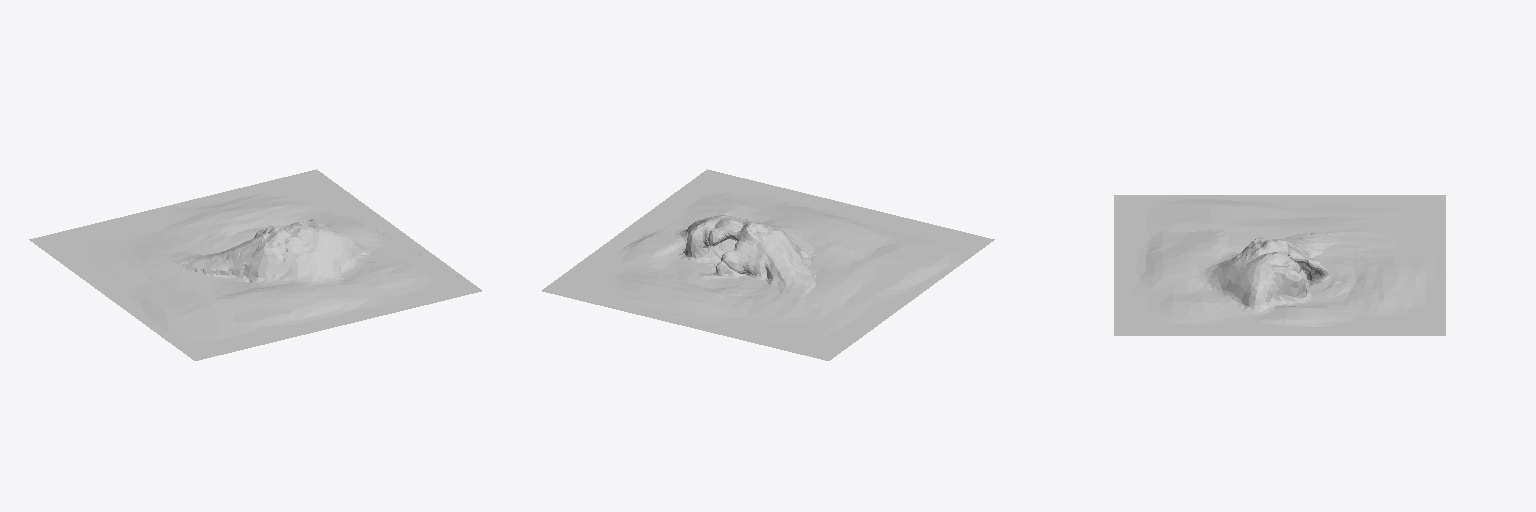
File: PlainWithRock0.obj
3 views of the same model, side by side, from view 1: azimuth 30°, elevation 25°; view 2: azimuth 150°, elevation 25°; view 3: azimuth 270°, elevation 25° (orthographic).
Parts seen in each view (by area): view 1: Tile; view 2: Tile; view 3: Tile.
Boxes of the visible parts, x1,y1,x2,y2 form: Tile: [29, 169, 481, 360]; Tile: [542, 169, 994, 360]; Tile: [1114, 195, 1445, 335].
Bounding box in the file's own units: 500 × 81.01 × 500.